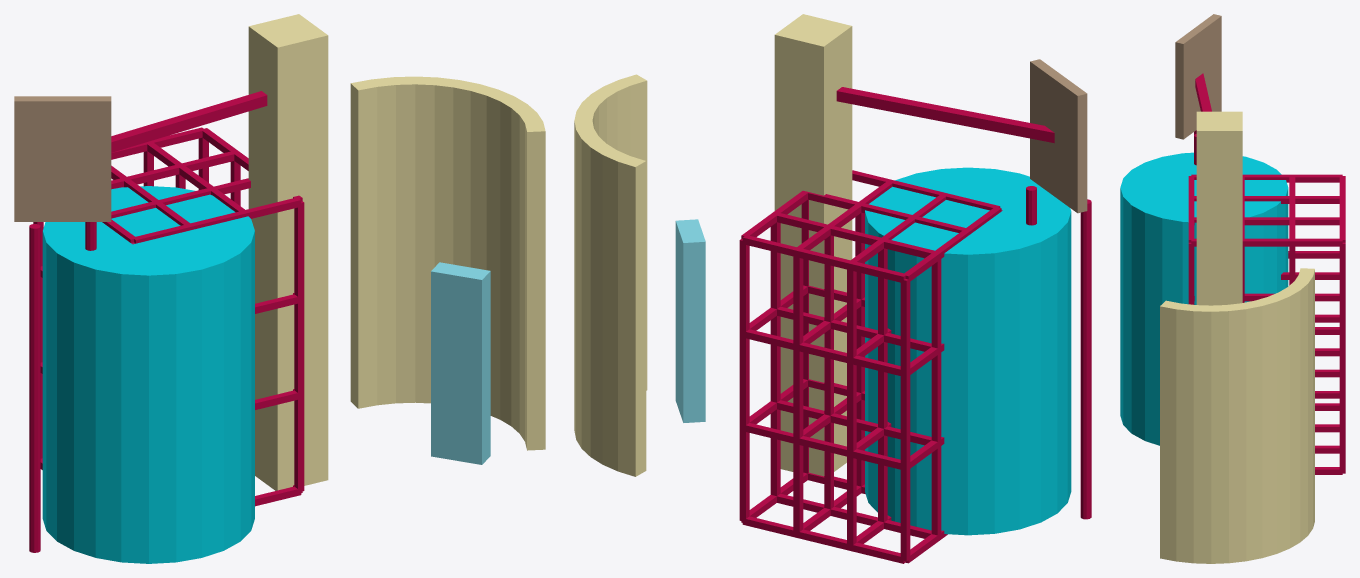
Rendered from folie_tag_139.glb.
3 renders of one model, left to right at view 1: azimuth 30°, elevation 25°; view 2: azimuth 150°, elevation 25°; view 3: azimuth 270°, elevation 25°, orthographic. The views are drawn at different scales.
Parts seen in each view (by area): view 1: folie_tag_139_01_drum, folie_tag_139_02_curve, folie_tag_139_core, folie_tag_139_00_cage, folie_tag_139_05_panel, folie_tag_139_03_fin, folie_tag_139_line; view 2: folie_tag_139_01_drum, folie_tag_139_00_cage, folie_tag_139_02_curve, folie_tag_139_core, folie_tag_139_line, folie_tag_139_05_panel, folie_tag_139_03_fin; view 3: folie_tag_139_02_curve, folie_tag_139_01_drum, folie_tag_139_00_cage, folie_tag_139_core, folie_tag_139_05_panel, folie_tag_139_line.
Boxes of the visible parts, x1,y1,x2,y2 form: folie_tag_139_01_drum: (42,186,254,563); folie_tag_139_02_curve: (350,76,545,450); folie_tag_139_core: (248,14,328,490); folie_tag_139_00_cage: (33,127,304,506); folie_tag_139_05_panel: (14,96,111,221); folie_tag_139_03_fin: (431,262,490,464); folie_tag_139_line: (29,91,267,552); folie_tag_139_01_drum: (865,167,1071,535); folie_tag_139_00_cage: (739,170,1002,563); folie_tag_139_02_curve: (574,74,647,476); folie_tag_139_core: (774,14,852,476); folie_tag_139_line: (836,87,1091,519); folie_tag_139_05_panel: (1030,59,1087,213); folie_tag_139_03_fin: (675,219,705,422); folie_tag_139_02_curve: (1160,268,1314,563); folie_tag_139_01_drum: (1120,152,1288,445); folie_tag_139_00_cage: (1188,174,1345,474); folie_tag_139_core: (1196,111,1242,305); folie_tag_139_05_panel: (1175,14,1221,139); folie_tag_139_line: (1194,73,1211,165).
Bounding box in the file's own units: 11.14 × 9.33 × 5.36.
